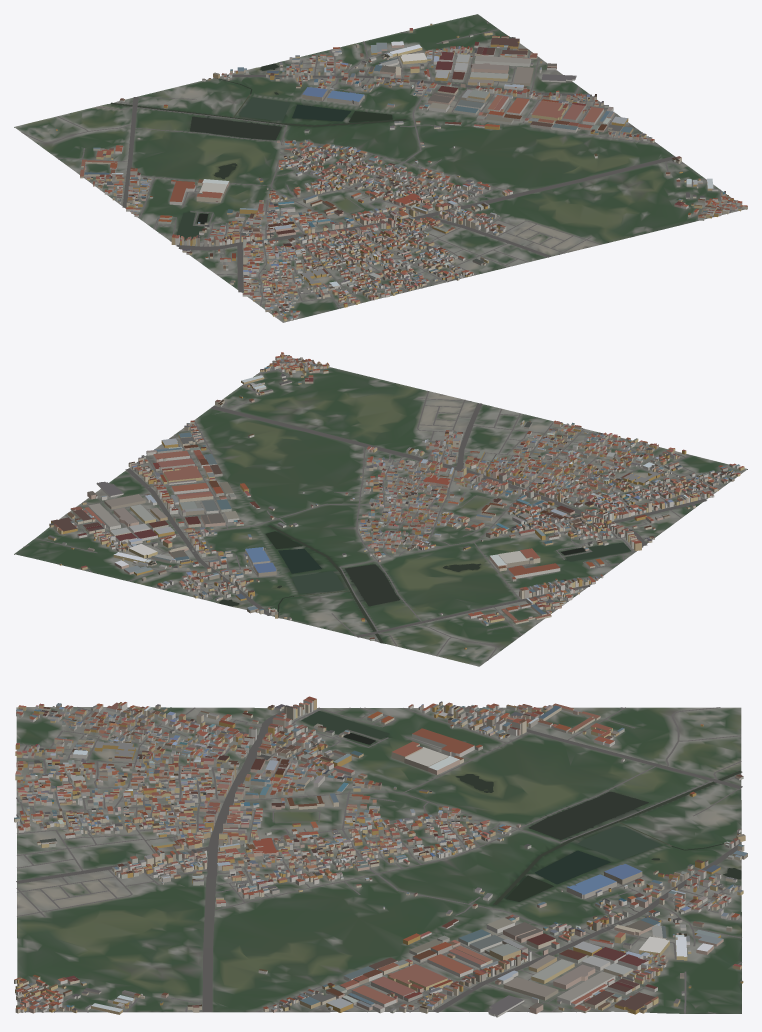
The picture shows the model from 3 angles, top to bottom: view 1: azimuth 30°, elevation 25°; view 2: azimuth 150°, elevation 25°; view 3: azimuth 270°, elevation 25°; orthographic projection. The views are drawn at different scales.
Parts seen in each view (by area): view 1: ground, buildings, roads, water; view 2: ground, buildings, roads, water; view 3: ground, buildings, roads, water.
Boxes of the visible parts, x1,y1,x2,y2 form: ground: [14, 14, 744, 322]; buildings: [56, 23, 747, 321]; roads: [21, 21, 738, 308]; water: [110, 63, 406, 240]; ground: [14, 358, 747, 666]; buildings: [48, 352, 744, 649]; roads: [23, 358, 725, 660]; water: [218, 525, 630, 643]; ground: [16, 707, 741, 1013]; buildings: [14, 696, 747, 1017]; roads: [16, 707, 744, 1013]; water: [301, 711, 742, 904].
Bounding box in the file's own units: 1433 × 33.05 × 1420.
